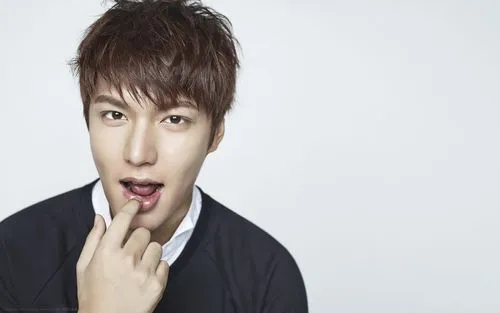withoutmask: (66, 3, 243, 230)
